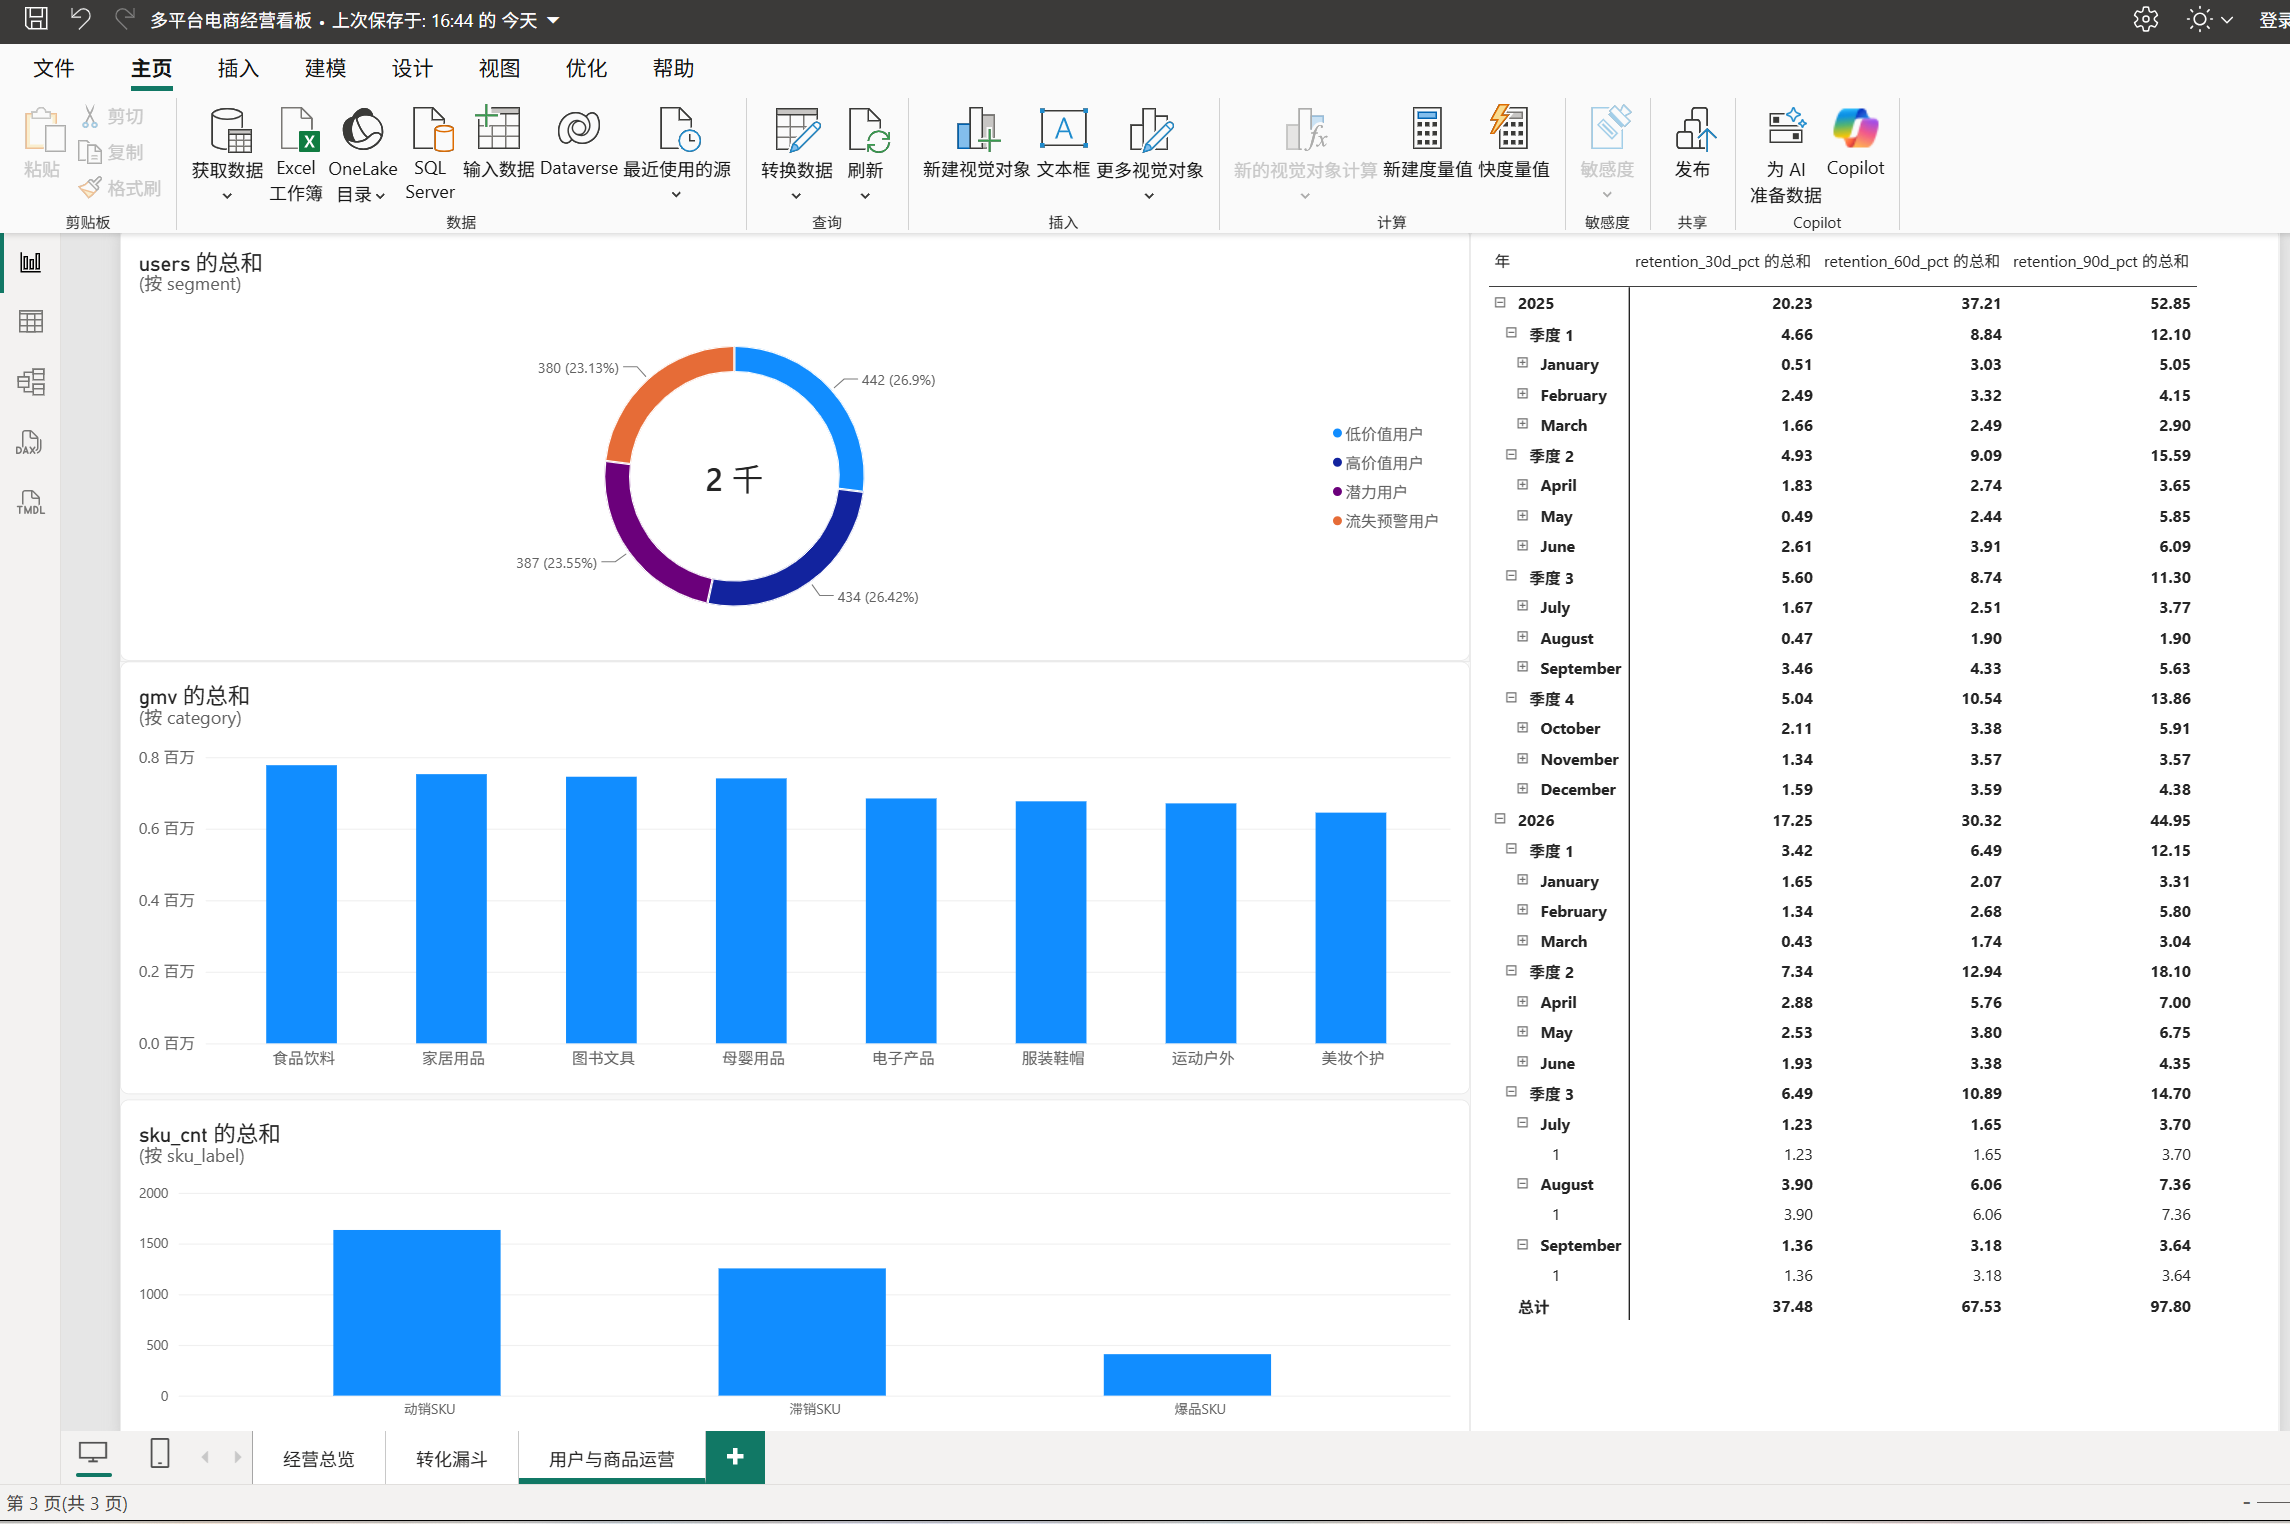

The page's visual inventory and layout, read from the dashboard file:
{"tool":"powerbi","page":{"name":"用户与商品运营","canvas":[1920,1080],"ordinal":2},"visuals":[{"type":"donutChart","fields":{"Category":["fct_rfm_summary.segment"],"Y":["Sum(fct_rfm_summary.users)"]},"box":[0,0,1200,384.7],"z":0},{"type":"pivotTable","fields":{"Rows":["fct_cohort_retention.cohort_month.变体.日期层次结构.年","fct_cohort_retention.cohort_month.变体.日期层次结构.季度","fct_cohort_retention.cohort_month.变体.日期层次结构.月份","fct_cohort_retention.cohort_month.变体.日期层次结构.日"],"Values":["Sum(fct_cohort_retention.retention_30d_pct)","Sum(fct_cohort_retention.retention_60d_pct)","Sum(fct_cohort_retention.retention_90d_pct)"]},"box":[1200,0,719.4,1080.6],"z":1},{"type":"clusteredColumnChart","fields":{"Category":["fct_category_sales.category"],"Y":["Sum(fct_category_sales.gmv)"]},"box":[0,384.7,1200,384.7],"z":2},{"type":"clusteredColumnChart","fields":{"Category":["fct_sku_label_summary.sku_label"],"Y":["Sum(fct_sku_label_summary.sku_cnt)"]},"box":[0,775,1200,305.6],"z":3}]}

Visuals, with their boxes on the page's 1920x1080 design canvas (x1, y1, x2, y2). These are canvas units, not pixel positions in the 2290x1524 screenshot, which may show the page scaled, cropped or inside an application window:
donutChart - fct_rfm_summary.segment x Sum(fct_rfm_summary.users): bbox(0, 0, 1200, 385)
pivotTable - fct_cohort_retention.cohort_month.变体.日期层次结构.年 x fct_cohort_retention.cohort_month.变体.日期层次结构.季度: bbox(1200, 0, 1919, 1081)
clusteredColumnChart - fct_category_sales.category x Sum(fct_category_sales.gmv): bbox(0, 385, 1200, 769)
clusteredColumnChart - fct_sku_label_summary.sku_label x Sum(fct_sku_label_summary.sku_cnt): bbox(0, 775, 1200, 1081)
